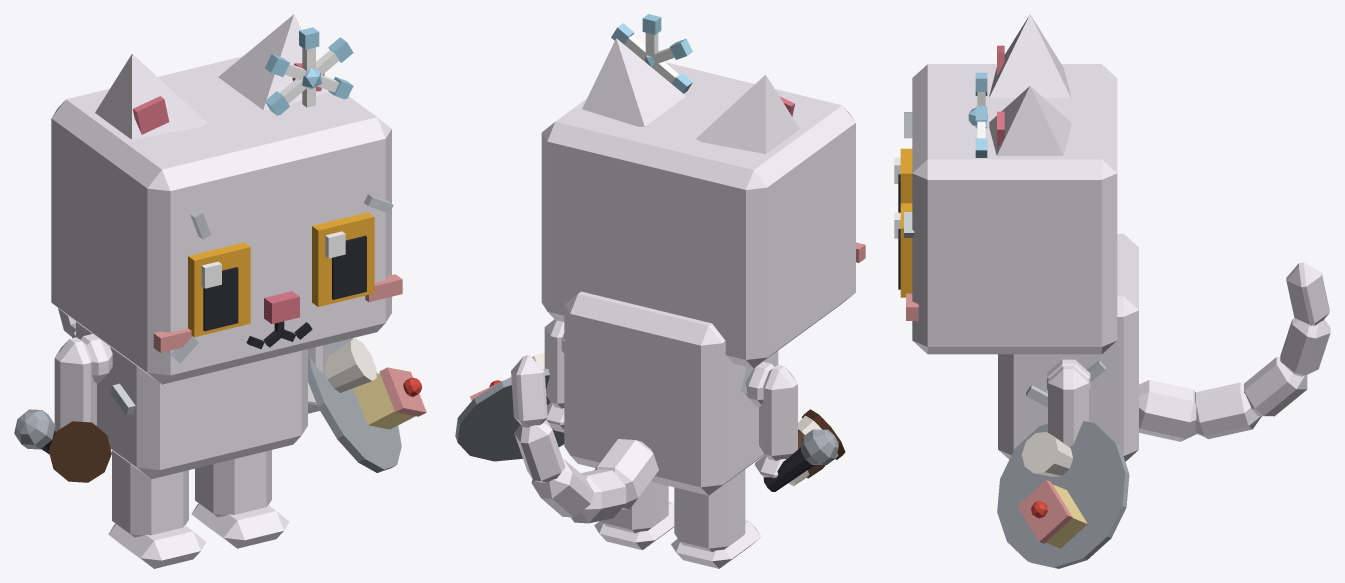
The model's file is CatCafe_Cat_Flurry_Work.glb.
The picture shows the model from 3 angles, left to right: view 1: azimuth 30°, elevation 25°; view 2: azimuth 150°, elevation 25°; view 3: azimuth 270°, elevation 25°; orthographic projection. The views are drawn at different scales.
Visible parts, largest first — view 1: CatCafe_Cat_Flurry_Work_Head, CatCafe_Cat_Flurry_Work_Body, CatCafe_Cat_Flurry_Work_Held_Waiter, CatCafe_Cat_Flurry_Work_LegB2, CatCafe_Cat_Flurry_Work_LegB1, CatCafe_Cat_Flurry_Work_Eye1, CatCafe_Cat_Flurry_Work_Eye2, CatCafe_Cat_Flurry_Work_EarR, CatCafe_Cat_Flurry_Work_EarL, CatCafe_Cat_Flurry_Work_Prop, CatCafe_Cat_Flurry_Work_LegF2, CatCafe_Cat_Flurry_Work_Held_Barista (+2 smaller); view 2: CatCafe_Cat_Flurry_Work_Head, CatCafe_Cat_Flurry_Work_Body, CatCafe_Cat_Flurry_Work_Tail, CatCafe_Cat_Flurry_Work_LegB2, CatCafe_Cat_Flurry_Work_EarL, CatCafe_Cat_Flurry_Work_EarR, CatCafe_Cat_Flurry_Work_Held_Waiter, CatCafe_Cat_Flurry_Work_LegF2, CatCafe_Cat_Flurry_Work_LegB1, CatCafe_Cat_Flurry_Work_Prop, CatCafe_Cat_Flurry_Work_Held_Entertainer, CatCafe_Cat_Flurry_Work_LegF1 (+1 smaller); view 3: CatCafe_Cat_Flurry_Work_Head, CatCafe_Cat_Flurry_Work_Held_Waiter, CatCafe_Cat_Flurry_Work_Tail, CatCafe_Cat_Flurry_Work_Body, CatCafe_Cat_Flurry_Work_EarL, CatCafe_Cat_Flurry_Work_EarR, CatCafe_Cat_Flurry_Work_LegF1, CatCafe_Cat_Flurry_Work_Eye1, CatCafe_Cat_Flurry_Work_Prop, CatCafe_Cat_Flurry_Work_Eye2.
Boxes of the visible parts, x1,y1,x2,y2 form: CatCafe_Cat_Flurry_Work_Head: (51, 56, 402, 384); CatCafe_Cat_Flurry_Work_Body: (76, 322, 307, 479); CatCafe_Cat_Flurry_Work_Held_Waiter: (308, 338, 426, 472); CatCafe_Cat_Flurry_Work_LegB2: (108, 450, 206, 568); CatCafe_Cat_Flurry_Work_LegB1: (191, 450, 289, 548); CatCafe_Cat_Flurry_Work_Eye1: (312, 212, 374, 306); CatCafe_Cat_Flurry_Work_Eye2: (188, 242, 250, 337); CatCafe_Cat_Flurry_Work_EarR: (95, 53, 207, 139); CatCafe_Cat_Flurry_Work_EarL: (218, 14, 328, 110); CatCafe_Cat_Flurry_Work_Prop: (264, 27, 353, 115); CatCafe_Cat_Flurry_Work_LegF2: (54, 337, 96, 430); CatCafe_Cat_Flurry_Work_Held_Barista: (48, 421, 111, 482); CatCafe_Cat_Flurry_Work_Head: (541, 62, 865, 368); CatCafe_Cat_Flurry_Work_Body: (561, 291, 778, 495); CatCafe_Cat_Flurry_Work_Tail: (511, 355, 658, 523); CatCafe_Cat_Flurry_Work_LegB2: (671, 469, 761, 568); CatCafe_Cat_Flurry_Work_EarL: (582, 38, 685, 126); CatCafe_Cat_Flurry_Work_EarR: (695, 74, 799, 153); CatCafe_Cat_Flurry_Work_Held_Waiter: (455, 352, 564, 461); CatCafe_Cat_Flurry_Work_LegF2: (755, 365, 797, 478); CatCafe_Cat_Flurry_Work_LegB1: (594, 481, 674, 550); CatCafe_Cat_Flurry_Work_Prop: (611, 14, 692, 93); CatCafe_Cat_Flurry_Work_Held_Entertainer: (763, 429, 838, 491); CatCafe_Cat_Flurry_Work_LegF1: (544, 319, 564, 432); CatCafe_Cat_Flurry_Work_Head: (904, 64, 1117, 354); CatCafe_Cat_Flurry_Work_Held_Waiter: (997, 421, 1129, 568); CatCafe_Cat_Flurry_Work_Tail: (1139, 262, 1330, 441); CatCafe_Cat_Flurry_Work_Body: (998, 233, 1138, 461); CatCafe_Cat_Flurry_Work_EarL: (989, 86, 1071, 155); CatCafe_Cat_Flurry_Work_EarR: (989, 14, 1071, 97); CatCafe_Cat_Flurry_Work_LegF1: (1048, 366, 1088, 447); CatCafe_Cat_Flurry_Work_Eye1: (894, 203, 912, 297); CatCafe_Cat_Flurry_Work_Prop: (968, 72, 987, 157); CatCafe_Cat_Flurry_Work_Eye2: (894, 148, 912, 212).
Size of the model in its own units: 1.53 by 1.94 by 1.62.
1 material, 1 textured.
